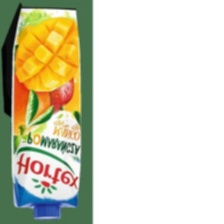carton: (7, 3, 86, 220)
